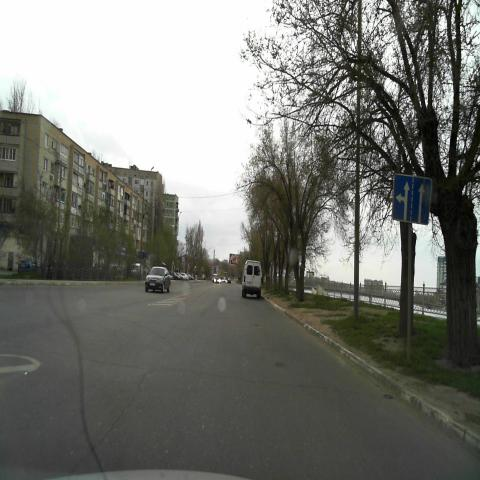5_15_2_2: (392, 173, 434, 224)
